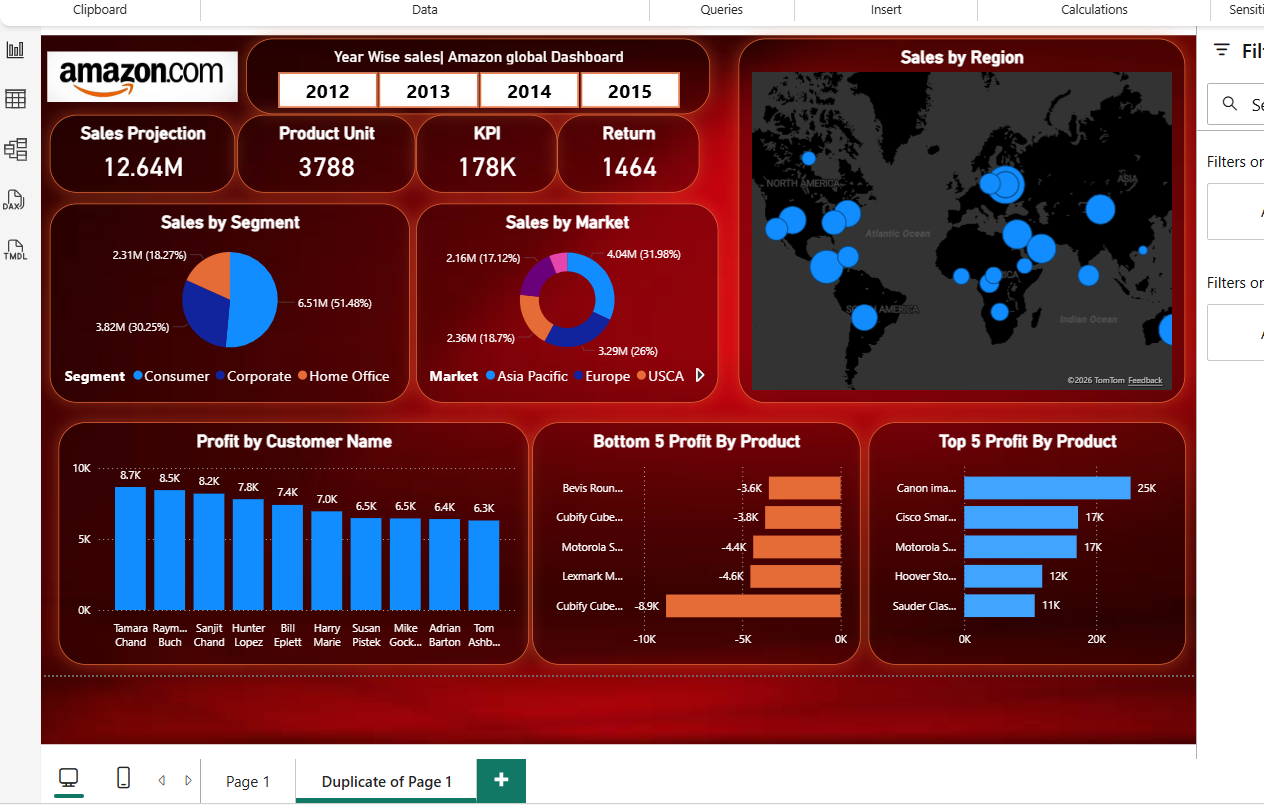

The page's visual inventory and layout, read from the dashboard file:
{"tool":"powerbi","page":{"name":"Page 1","canvas":[1280,720],"ordinal":0},"visuals":[{"type":"slicer","title":"Year Wise sales| Amazon global Dashboard","fields":{"Values":["Orders.Year"]},"box":[227.8,13.7,514.6,83.7],"z":0},{"type":"card","title":"Sales Projection","fields":{"Values":["Sum(Orders.Sales)"]},"box":[9.6,98.8,205.8,86.4],"z":1000},{"type":"card","title":"Product Unit","fields":{"Values":["Count(Orders.Product Name)"]},"box":[218.2,98.8,197.6,86.4],"z":2000},{"type":"card","title":"KPI ","fields":{"Values":["Sum(Orders.Quantity)"]},"box":[415.8,98.8,156.4,86.4],"z":3000},{"type":"card","title":"Return","fields":{"Values":["Count(Orders.Ship Date)"]},"box":[572.2,98.8,157.8,86.4],"z":4000},{"type":"pieChart","title":"Sales by Segment","fields":{"Category":["Orders.Segment"],"Y":["Sum(Orders.Sales)"]},"box":[9.6,196.2,399.3,220.9],"z":5000},{"type":"donutChart","title":"Sales by Market","fields":{"Y":["Sum(Orders.Sales)"],"Category":["Orders.Market"]},"box":[415.8,196.2,334.8,220.9],"z":6000},{"type":"columnChart","title":"Profit by Customer Name","fields":{"Category":["Orders.Customer Name"],"Y":["Sum(Orders.Profit)"]},"box":[19.2,439.1,521.4,269],"z":7000},{"type":"clusteredBarChart","title":"Bottom 5 Profit By Product","fields":{"Category":["Orders.Product Name"],"Y":["Sum(Orders.Profit)"]},"box":[544.8,439.1,363.6,269],"z":8000},{"type":"clusteredBarChart","title":"Top 5 Profit By Product","fields":{"Category":["Orders.Product Name"],"Y":["Sum(Orders.Profit)"]},"box":[916.8,439.1,352,268.7],"z":9000},{"type":"azureMap","title":"Sales by Region","fields":{"Category":["Orders.Region"],"Size":["Sum(Orders.Sales)"]},"box":[773.7,13.7,495.1,404.3],"z":10000},{"type":"image","box":[6.9,13.7,211.3,85.1],"z":11000}]}

Visuals, with their boxes on the page's 1280x720 design canvas (x1, y1, x2, y2). These are canvas units, not pixel positions in the 1264x805 screenshot, which may show the page scaled, cropped or inside an application window:
"Year Wise sales| Amazon global Dashboard" slicer: 228,14,742,97
"Sales Projection" card: 10,99,215,185
"Product Unit" card: 218,99,416,185
"KPI " card: 416,99,572,185
"Return" card: 572,99,730,185
"Sales by Segment" pieChart: 10,196,409,417
"Sales by Market" donutChart: 416,196,751,417
"Profit by Customer Name" columnChart: 19,439,541,708
"Bottom 5 Profit By Product" clusteredBarChart: 545,439,908,708
"Top 5 Profit By Product" clusteredBarChart: 917,439,1269,708
"Sales by Region" azureMap: 774,14,1269,418
image: 7,14,218,99
